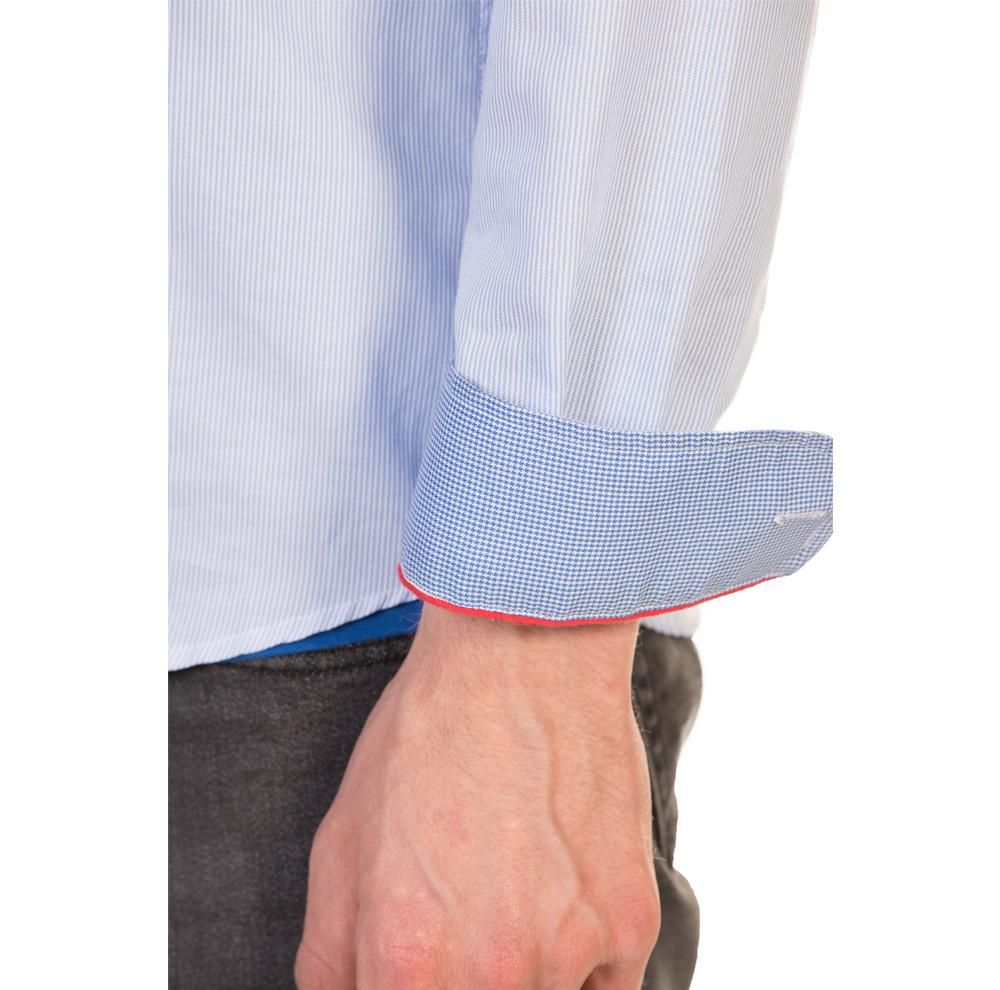teeshirt: (164, 1, 849, 731)
